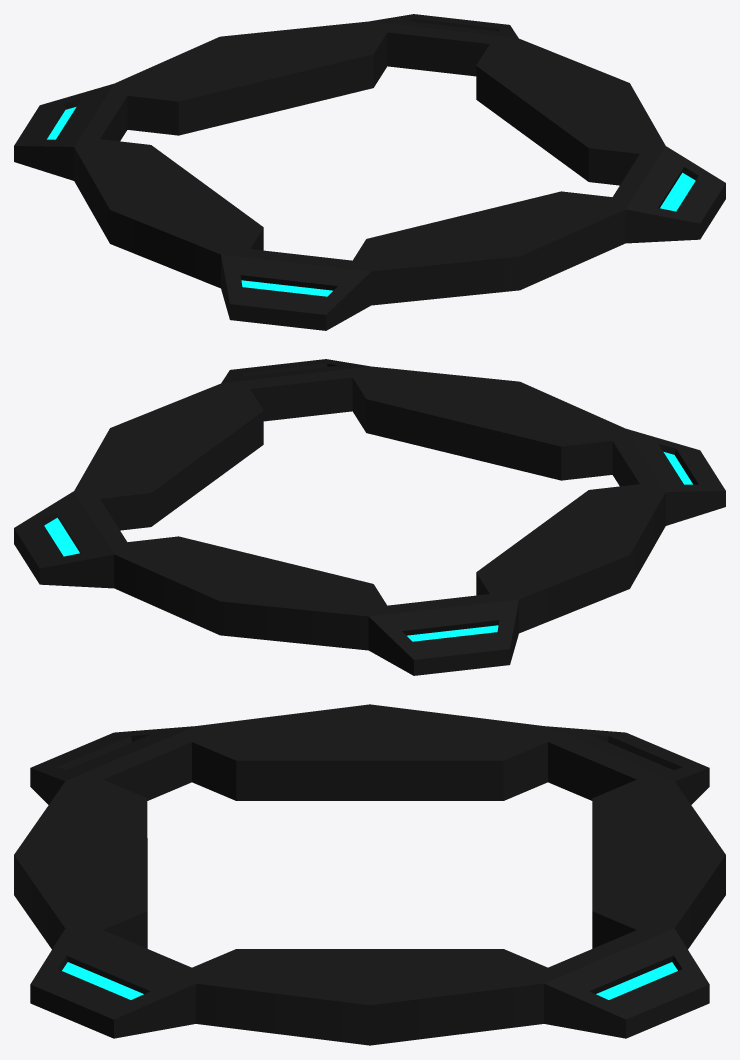
File: BuildSpot.fbx
3 views of the same model, one above another, from view 1: azimuth 30°, elevation 25°; view 2: azimuth 150°, elevation 25°; view 3: azimuth 270°, elevation 25° (orthographic). The views are drawn at different scales.
Parts seen in each view (by area): view 1: BuildSpot; view 2: BuildSpot; view 3: BuildSpot.
Part boxes in pixels (x1,y1,x2,y2): BuildSpot: (14, 14, 725, 330); BuildSpot: (14, 359, 725, 675); BuildSpot: (14, 704, 725, 1045).
Size of the model in its own units: 160 by 10 by 160.
